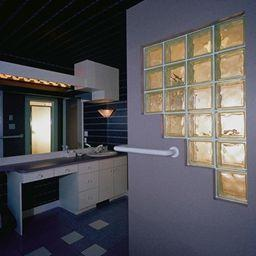Puerta: (127, 10, 253, 254)
